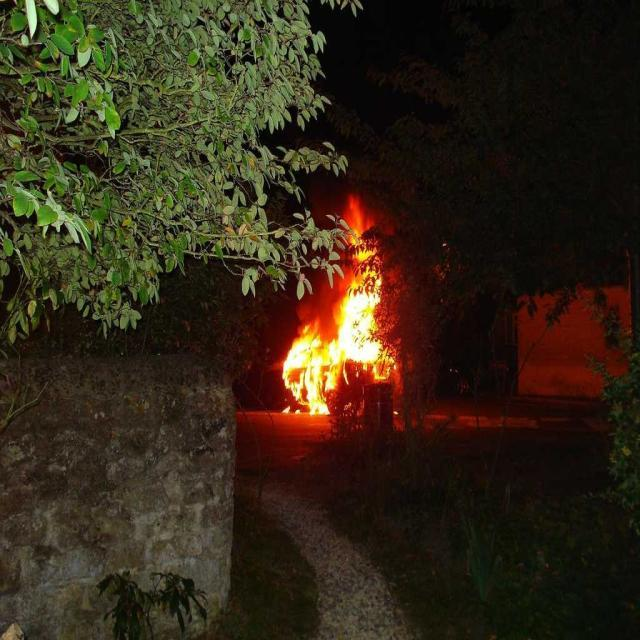Fire: (334, 282, 382, 366), (292, 344, 338, 418)
